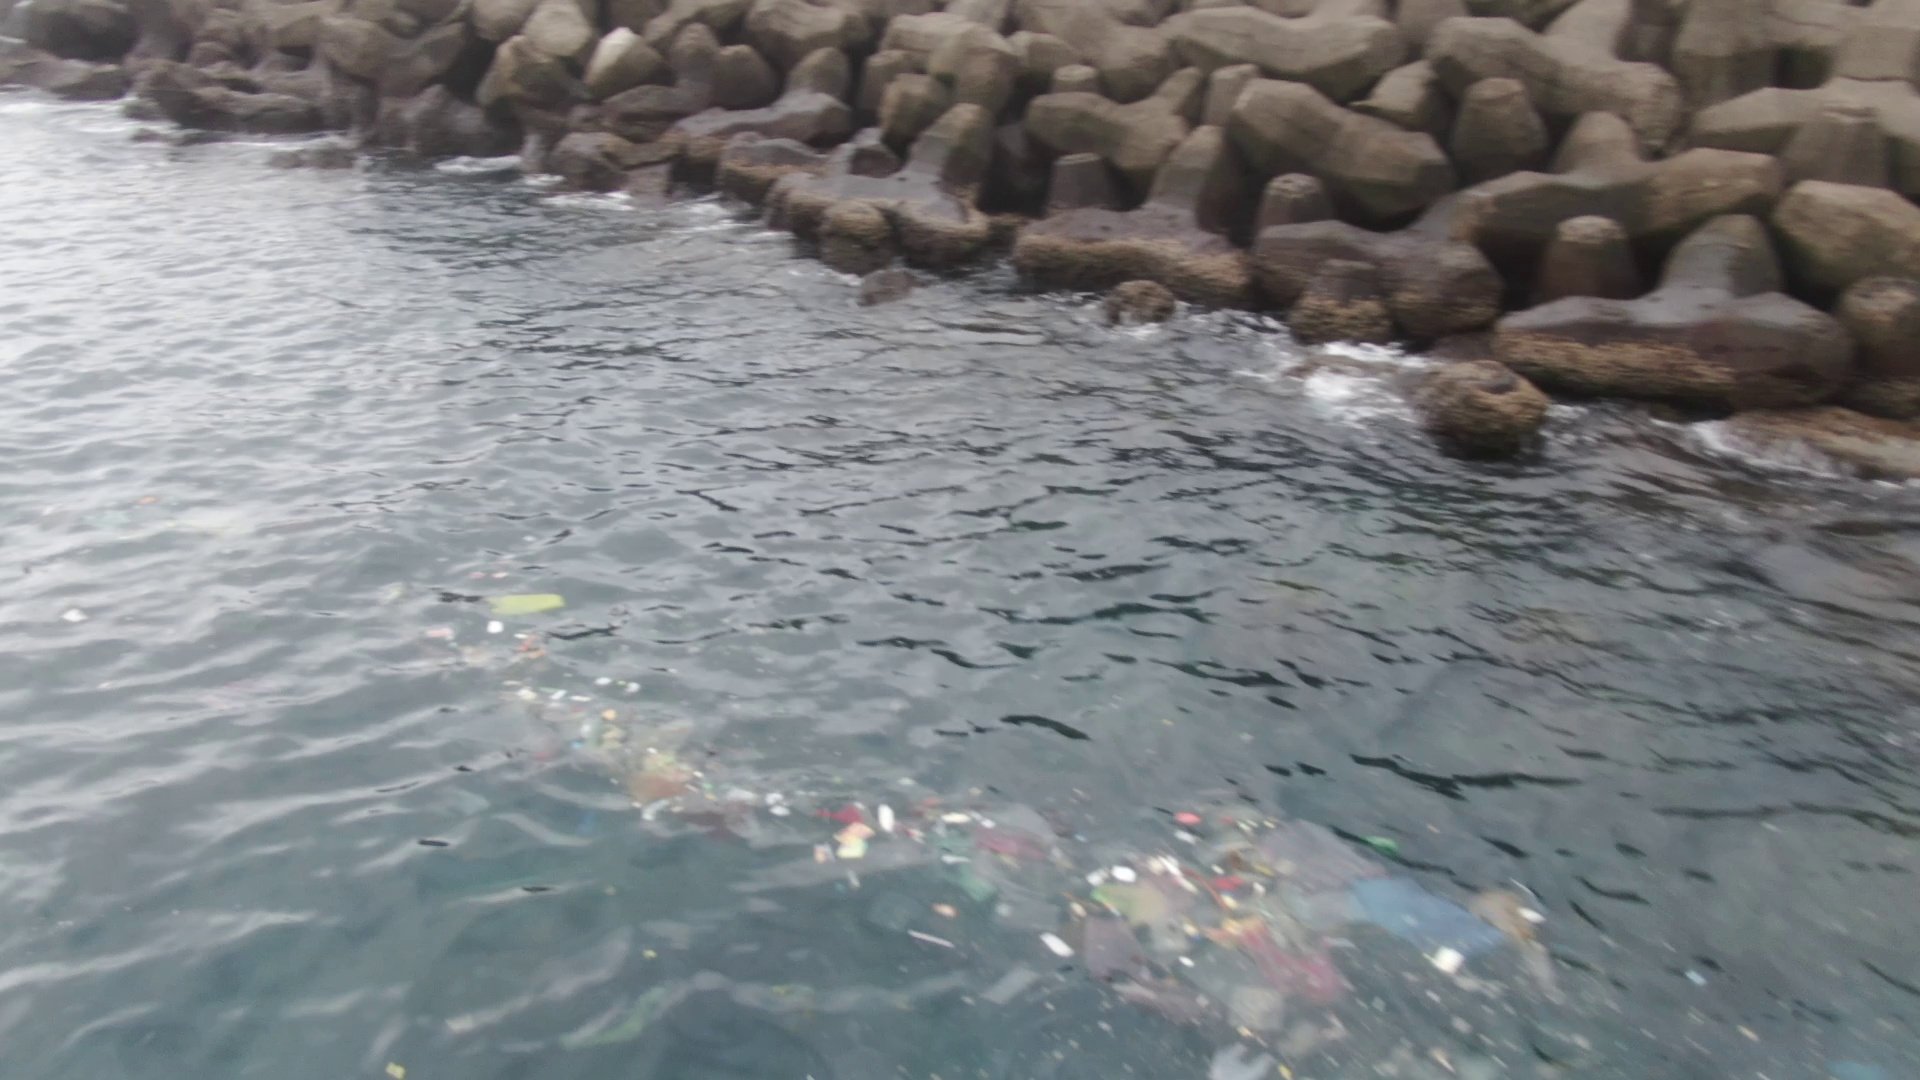garbage: (1083, 781, 1581, 1080), (911, 790, 1075, 1006), (562, 704, 727, 836), (728, 774, 913, 885), (483, 638, 579, 704), (465, 578, 582, 626)
